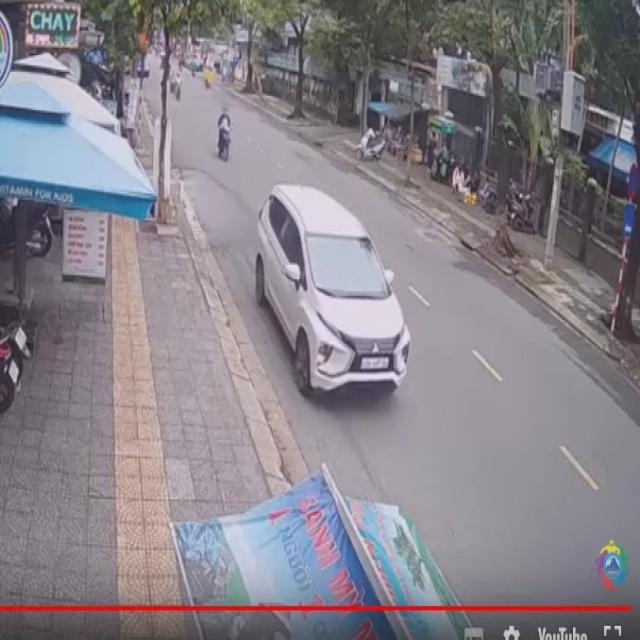car: (250, 178, 412, 414)
motorbike: (212, 107, 234, 162)
